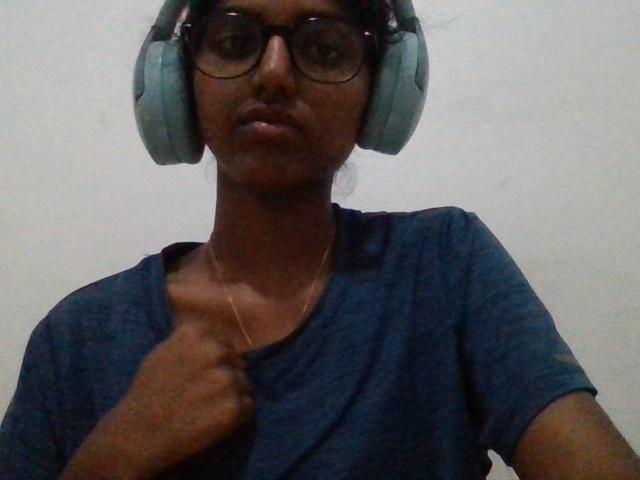Sorry: (82, 303, 276, 477)
